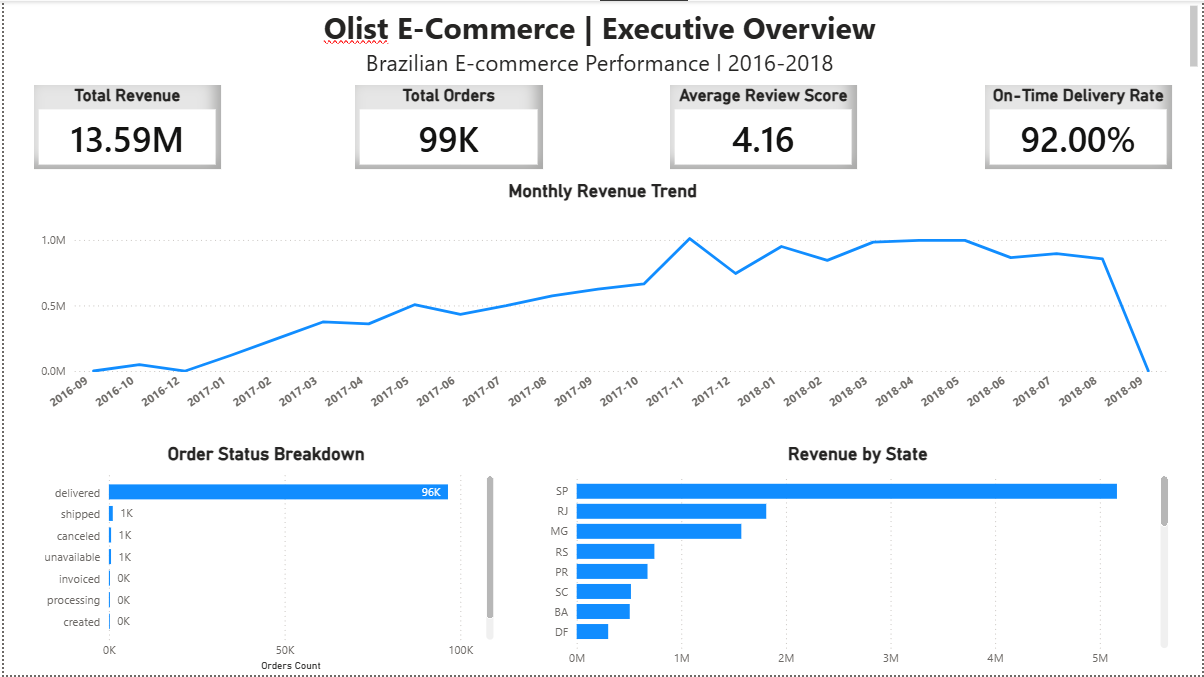

The dashboard page shown, as its layout file describes it:
{"tool":"powerbi","page":{"name":"Overview","canvas":[1280,720],"ordinal":0},"visuals":[{"type":"textbox","box":[0,0,1280,80],"z":0},{"type":"cardVisual","title":"Total Revenue","fields":{"Data":["_Measures.Total Revenue"]},"box":[32.3,90,199.6,90],"z":1000},{"type":"cardVisual","title":"Total Orders","fields":{"Data":["_Measures.Total Orders"]},"box":[375,90,200.8,90],"z":2000},{"type":"cardVisual","title":"Average Review Score","fields":{"Data":["_Measures.Average Review Score"]},"box":[711.9,90,199.6,90],"z":3000},{"type":"cardVisual","title":"On-Time Delivery Rate","fields":{"Data":["_Measures.On-Time Delivery Rate"]},"box":[1047.7,90,199.6,90],"z":4000},{"type":"lineChart","title":"Monthly Revenue Trend","fields":{"Y":["_Measures.Total Revenue"],"Category":["olist analysis_monthly_revenue.month"]},"box":[32.3,191.5,1215,263.1],"z":5000},{"type":"clusteredBarChart","title":"Order Status Breakdown","fields":{"Category":["olist analysis_order_status_breakdown.order_status"],"Y":["Sum(olist analysis_order_status_breakdown.order_count)"]},"box":[32.3,471.9,496.2,248.1],"z":6000},{"type":"clusteredBarChart","title":"Revenue by State","fields":{"Category":["olist analysis_revenue_orders_by_state.customer_state"],"Y":["Sum(olist analysis_revenue_orders_by_state.total_revenue)"]},"box":[575.8,471.9,672.7,248.1],"z":7000}]}

Visuals, with their boxes in screenshot pixels (x1, y1, x2, y2), scaled from the page's 1280x720 canvas onto the 1204x677 screenshot:
textbox: BBox(0, 0, 1203, 75)
"Total Revenue" cardVisual: BBox(30, 85, 218, 169)
"Total Orders" cardVisual: BBox(353, 85, 542, 169)
"Average Review Score" cardVisual: BBox(670, 85, 857, 169)
"On-Time Delivery Rate" cardVisual: BBox(985, 85, 1173, 169)
"Monthly Revenue Trend" lineChart: BBox(30, 180, 1173, 427)
"Order Status Breakdown" clusteredBarChart: BBox(30, 444, 497, 676)
"Revenue by State" clusteredBarChart: BBox(542, 444, 1174, 676)
